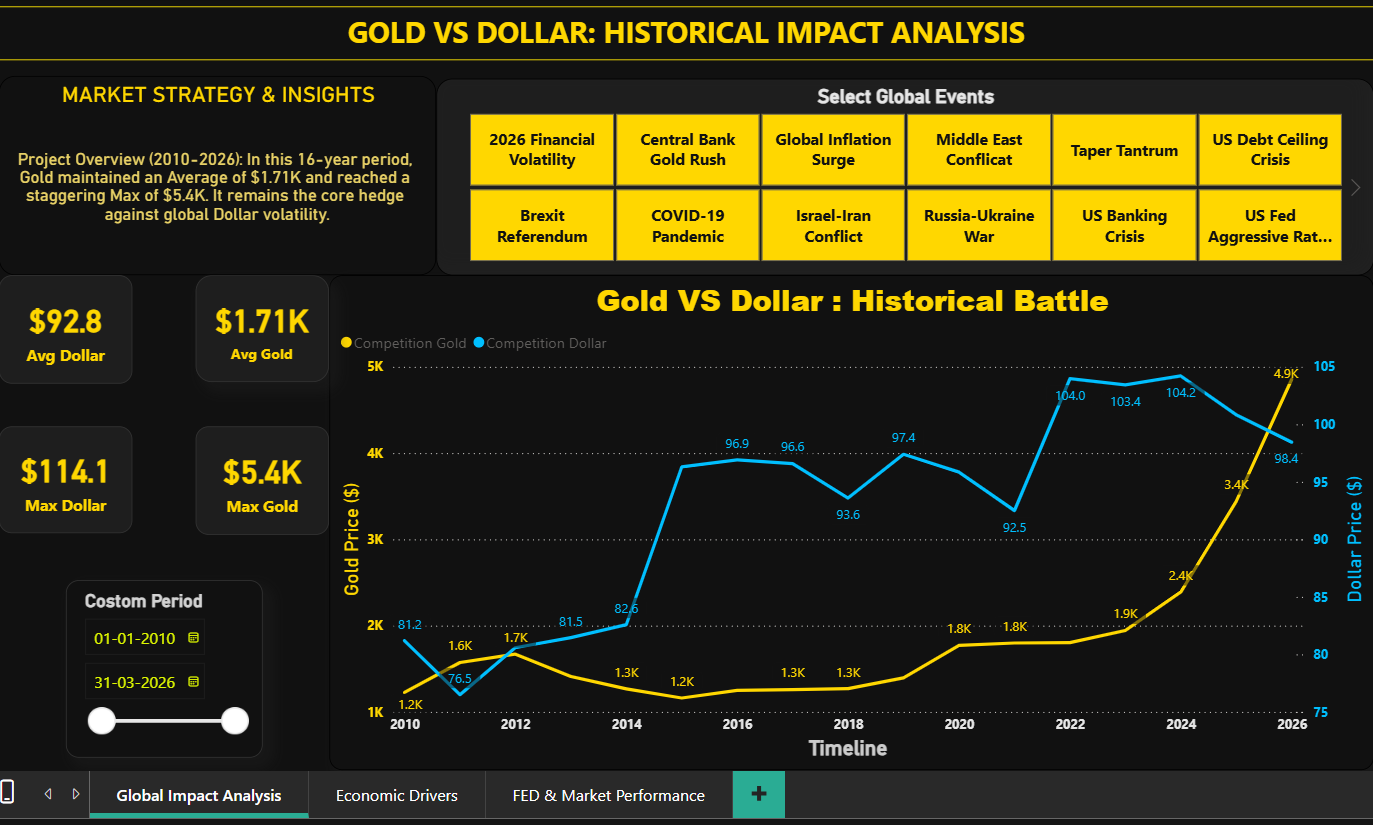

Layout of this report page (visuals, bound fields, positions):
{"tool":"powerbi","page":{"name":"Global Impact Analysis","canvas":[1280,720],"ordinal":0},"visuals":[{"type":"slicer","fields":{"Values":["Gold_Analysis_Master.Date"]},"box":[62.2,542.6,183,165.5],"z":0},{"type":"slicer","title":"Select Global Events","fields":{"Values":["World_Events_Master.Event_Name"]},"box":[407,75.9,872.5,183],"z":1000},{"type":"lineChart","title":"Gold VS Dollar : Historical Battle","fields":{"Category":["Gold_Analysis_Master.Date.Variation.Date Hierarchy.Year","Gold_Analysis_Master.Date.Variation.Date Hierarchy.Quarter","Gold_Analysis_Master.Date.Variation.Date Hierarchy.Month","Gold_Analysis_Master.Date.Variation.Date Hierarchy.Day"],"Y":["Gold_Analysis_Master.Competition Gold"],"Y2":["Gold_Analysis_Master.Competition Dollar"]},"box":[307.4,258.9,972,460.5],"z":2000},{"type":"card","fields":{"Values":["Gold_Analysis_Master.Avg Gold"]},"box":[183,258.9,124.5,99.6],"z":3000},{"type":"card","fields":{"Values":["Gold_Analysis_Master.Max Gold"]},"box":[183,399.5,124.5,100.8],"z":4000},{"type":"textbox","box":[0,8.9,1279.7,49.9],"z":5000},{"type":"card","title":"MARKET STRATEGY & INSIGHTS","fields":{"Values":["Gold_Analysis_Master.Page 1 Insights"]},"box":[0,73.4,407,185.4],"z":6000},{"type":"card","fields":{"Values":["Gold_Analysis_Master.Avg Dollar"]},"box":[0,258.9,124.5,100.8],"z":7000},{"type":"card","fields":{"Values":["Gold_Analysis_Master.Max Dollar"]},"box":[0,399.5,124.5,99.6],"z":8000}]}

Visuals, with their boxes on the page's 1280x720 design canvas (x1, y1, x2, y2). These are canvas units, not pixel positions in the 1373x825 screenshot, which may show the page scaled, cropped or inside an application window:
slicer - Gold_Analysis_Master.Date: [62,543,245,708]
"Select Global Events" slicer: [407,76,1280,259]
"Gold VS Dollar : Historical Battle" lineChart: [307,259,1279,719]
card - Gold_Analysis_Master.Avg Gold: [183,259,308,358]
card - Gold_Analysis_Master.Max Gold: [183,400,308,500]
textbox: [0,9,1280,59]
"MARKET STRATEGY & INSIGHTS" card: [0,73,407,259]
card - Gold_Analysis_Master.Avg Dollar: [0,259,124,360]
card - Gold_Analysis_Master.Max Dollar: [0,400,124,499]
